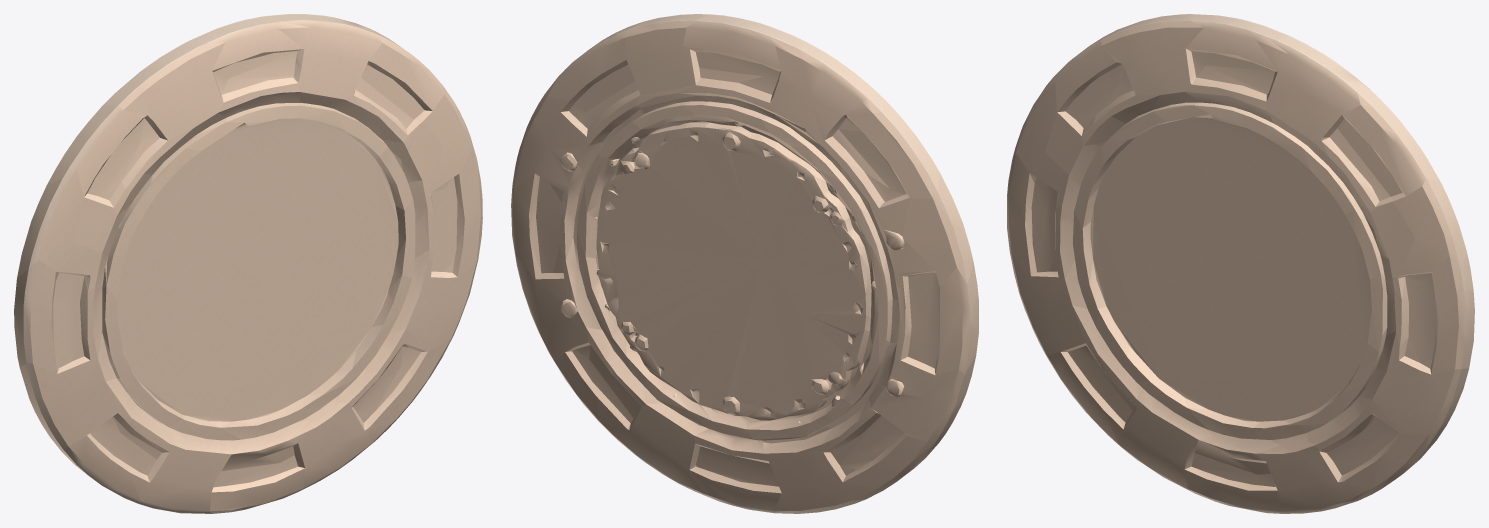
The model's file is casino-chip-meshy.glb.
3 renders of one model, left to right at view 1: azimuth 30°, elevation 25°; view 2: azimuth 150°, elevation 25°; view 3: azimuth 330°, elevation 25°, orthographic.
Visible parts, largest first — view 1: mesh_node; view 2: mesh_node; view 3: mesh_node.
Boxes of the visible parts, x1=… form: mesh_node: x1=14, y1=14, x2=482, y2=513; mesh_node: x1=511, y1=14, x2=978, y2=513; mesh_node: x1=1007, y1=14, x2=1474, y2=513.
Bounding box in the file's own units: 1.9 × 1.9 × 0.2097.
1 material, 1 textured.
